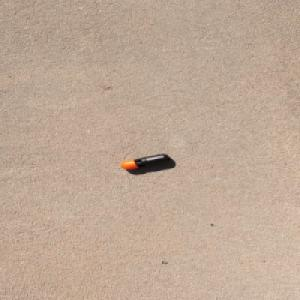PlasticPart: (119, 153, 171, 169)
